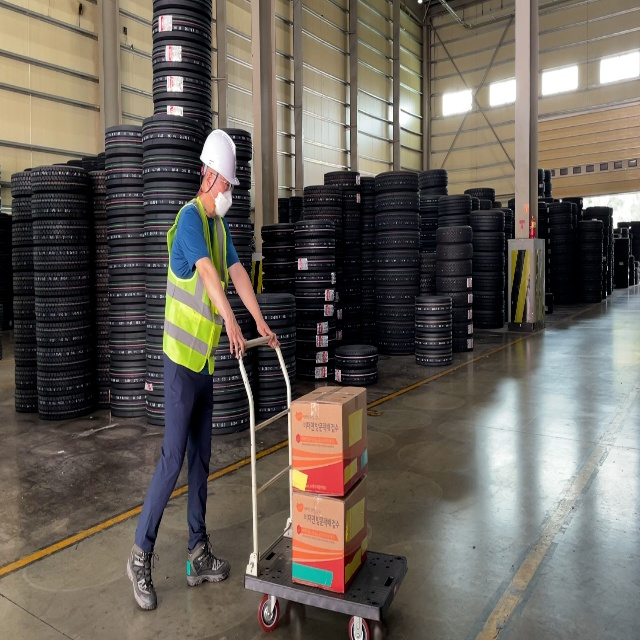Box: (292, 473, 368, 594), (290, 385, 369, 497)
Worker: (126, 128, 281, 611)
